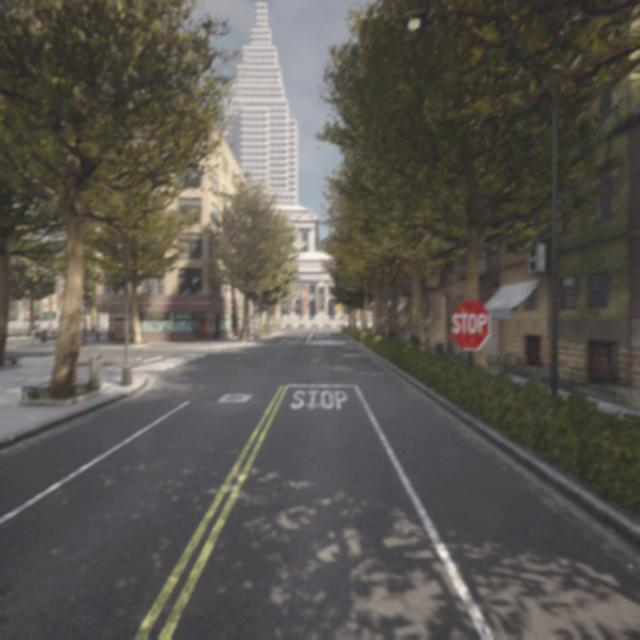stop sign: (447, 295, 493, 354), (450, 309, 488, 335)
